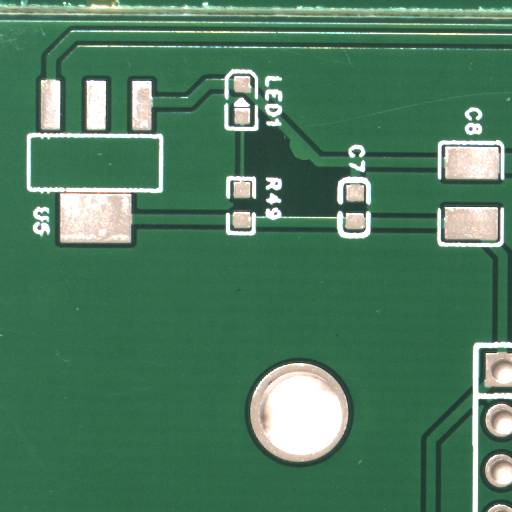Spur: (299, 151, 324, 174)
